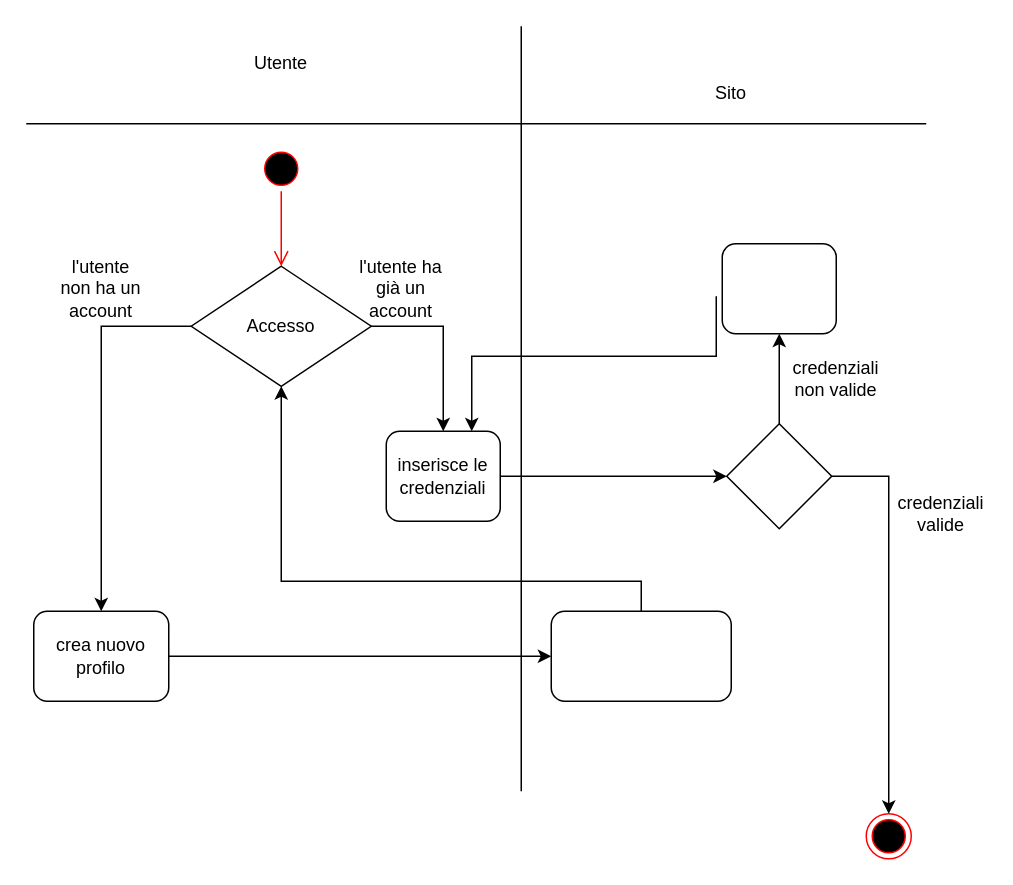
This 1013x885 diagram has some shape labels left out. The centre of each missing label's shape, as x and y in pixels:
mostra errore: pixel 778 288
salva le credenziali: pixel 640 655
